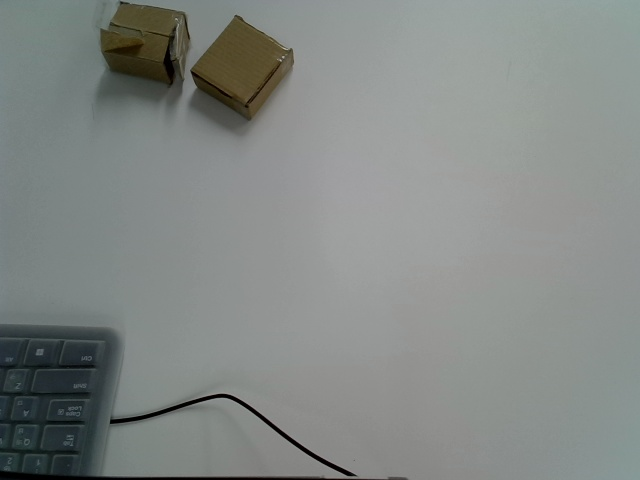defect: (99, 2, 194, 86)
normal: (191, 14, 298, 121)
